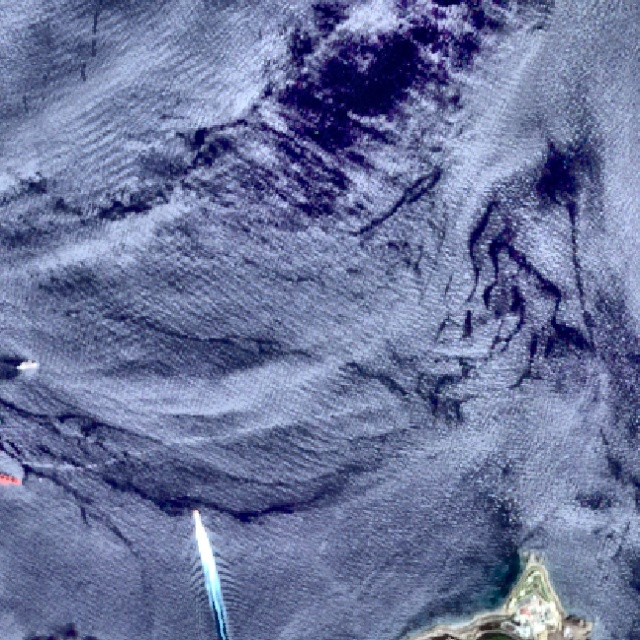wake: (162, 500, 255, 629)
